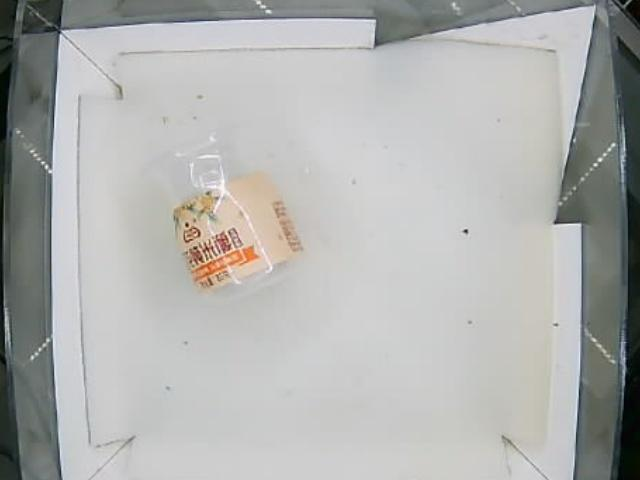Bottle: (161, 123, 309, 300)
